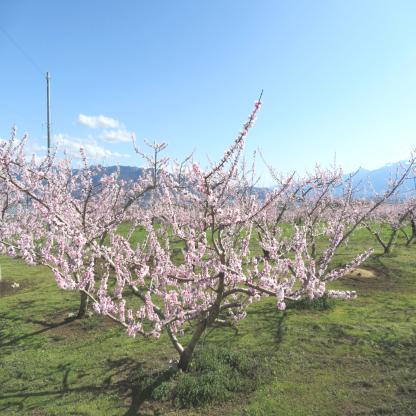Momo: (82, 86, 374, 354), (0, 126, 150, 315), (355, 194, 416, 238), (272, 199, 358, 228)
